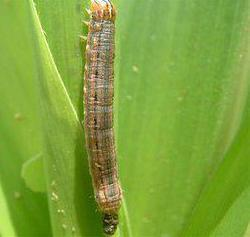caterpillars: (62, 1, 155, 237)
